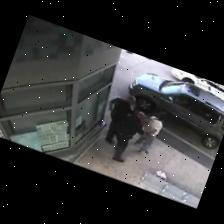person: (112, 112, 144, 162), (105, 96, 134, 144), (134, 115, 163, 153)
